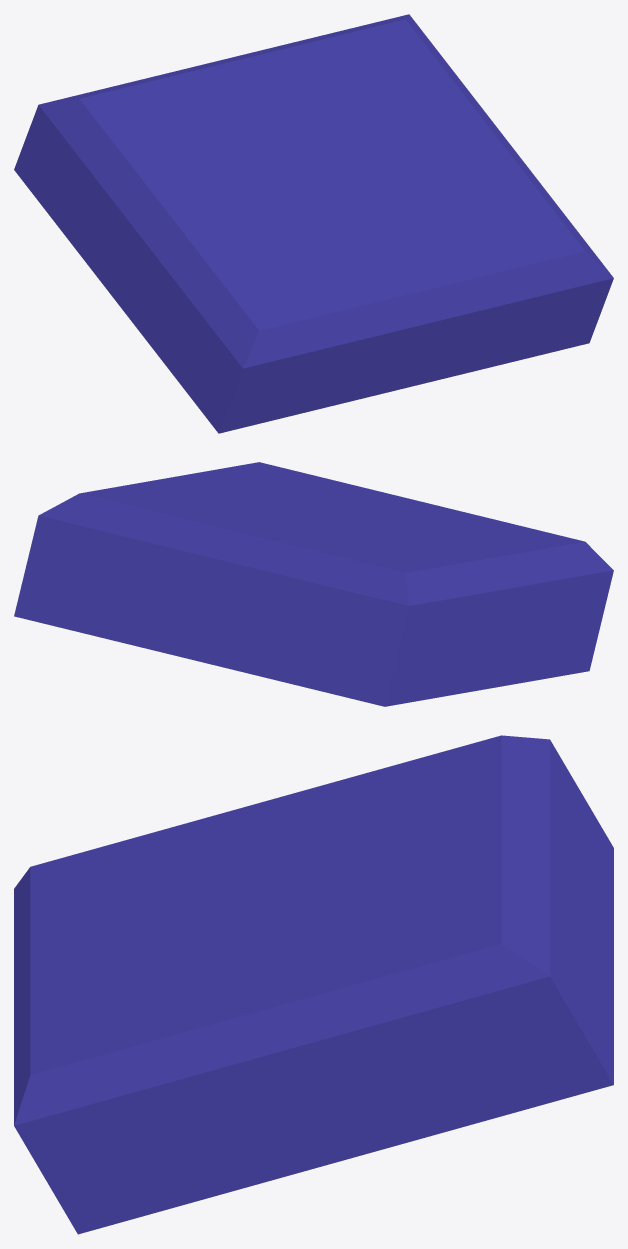
The model's file is violet_button.glb.
3 renders of one model, top to bottom at view 1: azimuth 30°, elevation 25°; view 2: azimuth 150°, elevation 25°; view 3: azimuth 270°, elevation 25°, orthographic. The views are drawn at different scales.
Parts seen in each view (by area): view 1: Violet_Button; view 2: Violet_Button; view 3: Violet_Button.
Boxes of the visible parts, left/top/right/bottom form: Violet_Button: left=14, top=14, right=613, bottom=433; Violet_Button: left=14, top=462, right=613, bottom=706; Violet_Button: left=14, top=735, right=613, bottom=1234.
Size of what is drawn, in the model's own units: 0.3156 by 0.1716 by 0.3376.
1 material, 1 textured.
